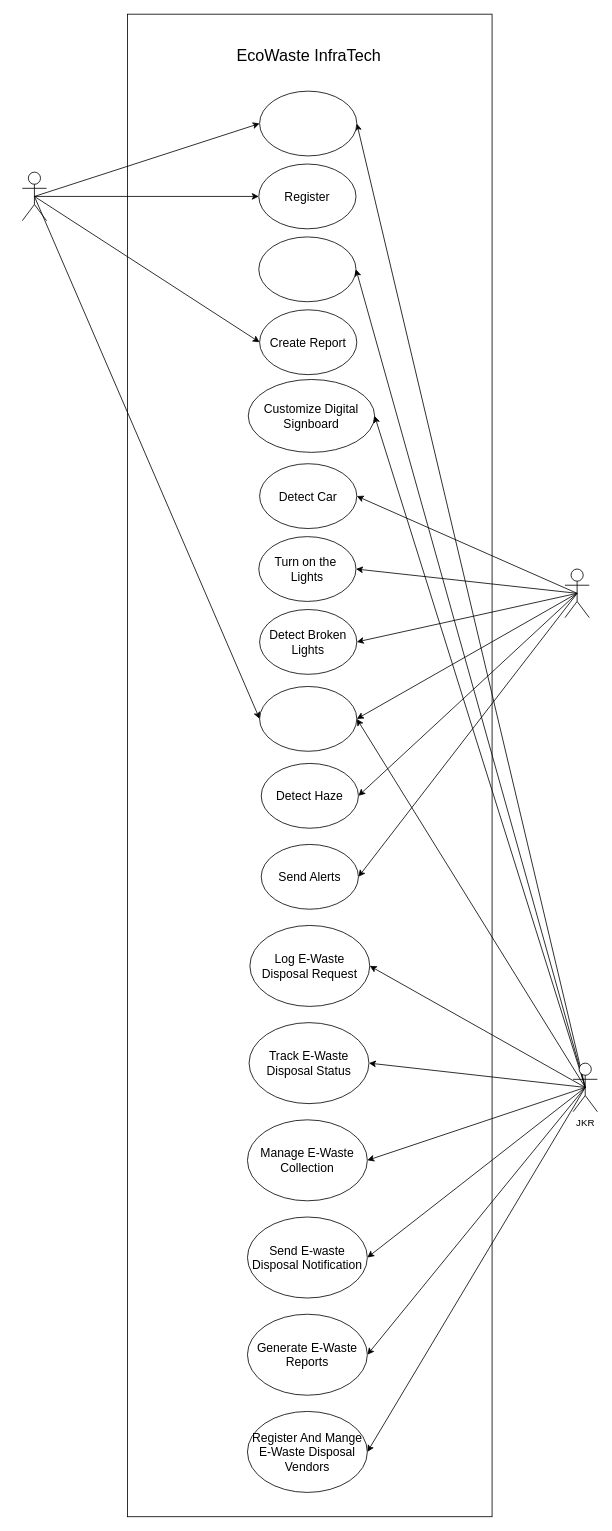
The diagram is 612 pixels wide and 1531 high, and some of its shapes have lost their labels. The centre of each missing label's shape, as x and y in pixels:
End User: point (34, 196)
Login: point (308, 123)
Manage Report: point (307, 269)
Notifications & Alerts: point (308, 718)
Sensors: point (576, 593)
